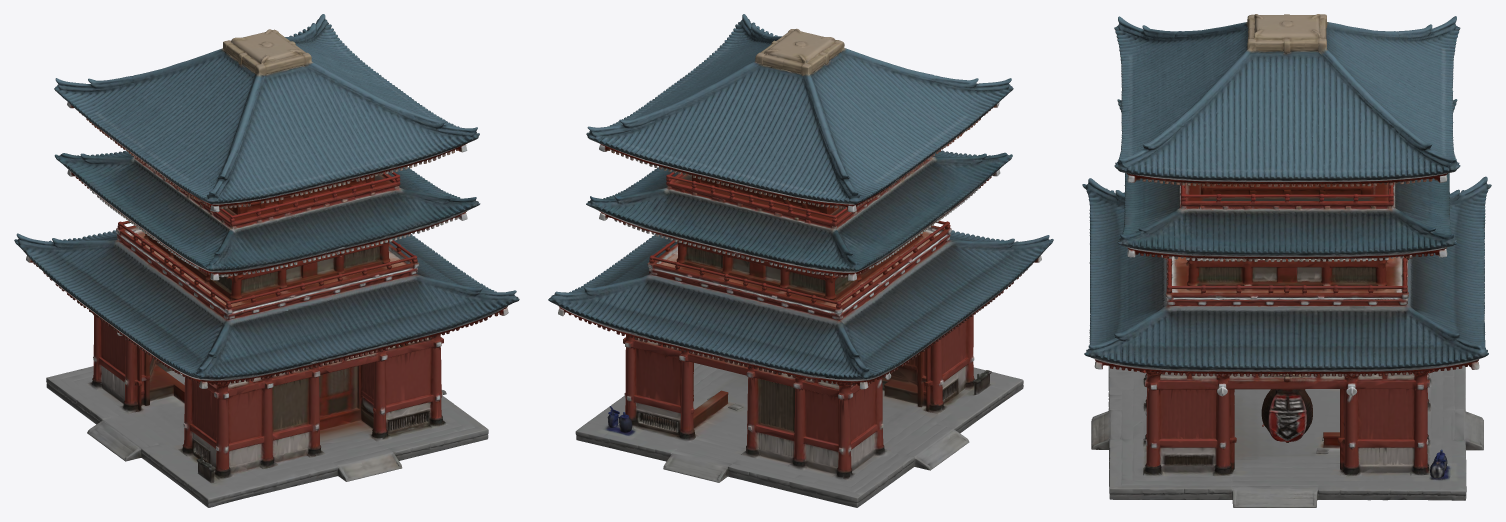
File: pagoda.glb
3 views of the same model, side by side, from view 1: azimuth 30°, elevation 25°; view 2: azimuth 150°, elevation 25°; view 3: azimuth 270°, elevation 25° (orthographic). The views are drawn at different scales.
Visible parts, largest first — view 1: tripo_node_4d4fea4e-a45e-4e65-8b24-55f4456c19c3; view 2: tripo_node_4d4fea4e-a45e-4e65-8b24-55f4456c19c3; view 3: tripo_node_4d4fea4e-a45e-4e65-8b24-55f4456c19c3.
Part boxes in pixels (x1,y1,x2,y2): tripo_node_4d4fea4e-a45e-4e65-8b24-55f4456c19c3: (14,14,519,507); tripo_node_4d4fea4e-a45e-4e65-8b24-55f4456c19c3: (548,14,1053,507); tripo_node_4d4fea4e-a45e-4e65-8b24-55f4456c19c3: (1082,14,1491,507).
Bounding box in the file's own units: 0.2678 × 0.2938 × 0.2705.
Materials: 1 (1 with a texture image).
